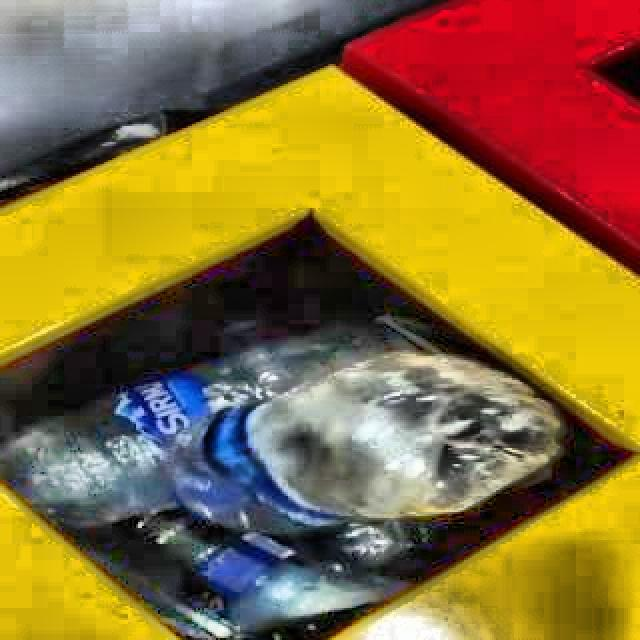plastic: (0, 324, 565, 627)
